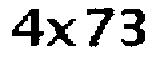3: (117, 4, 153, 52)
4: (7, 6, 47, 51)
7: (81, 2, 116, 51)
x: (46, 16, 82, 47)
